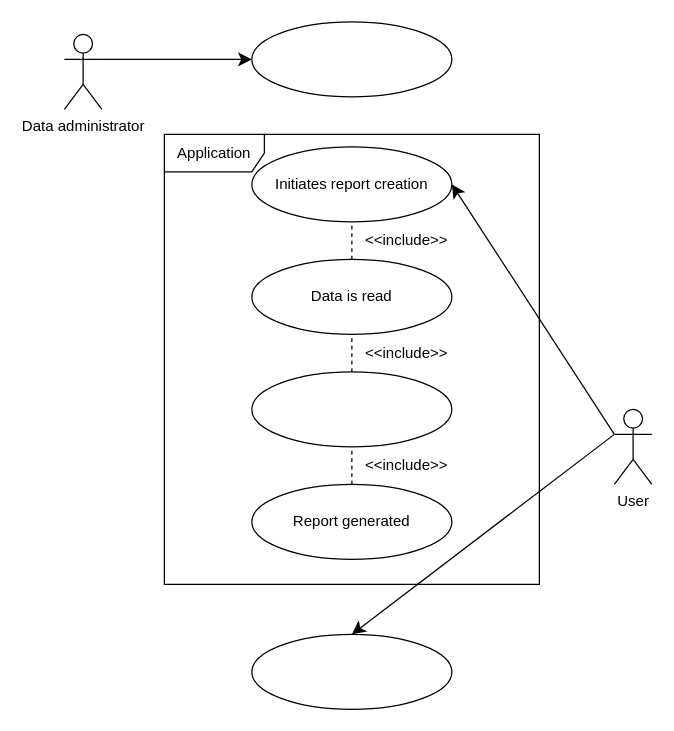
This 674x731 diagram has some shape labels left out. Each missing label, with the centre of its shape:
Data is processed: (x=351, y=409)
Inputs data to CSV File: (x=351, y=59)
Reads report: (x=351, y=671)
